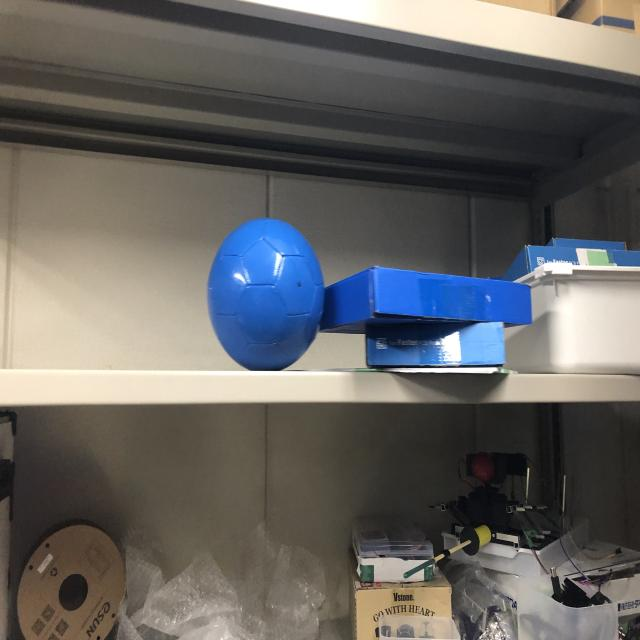blue_ball: (210, 218, 321, 370)
